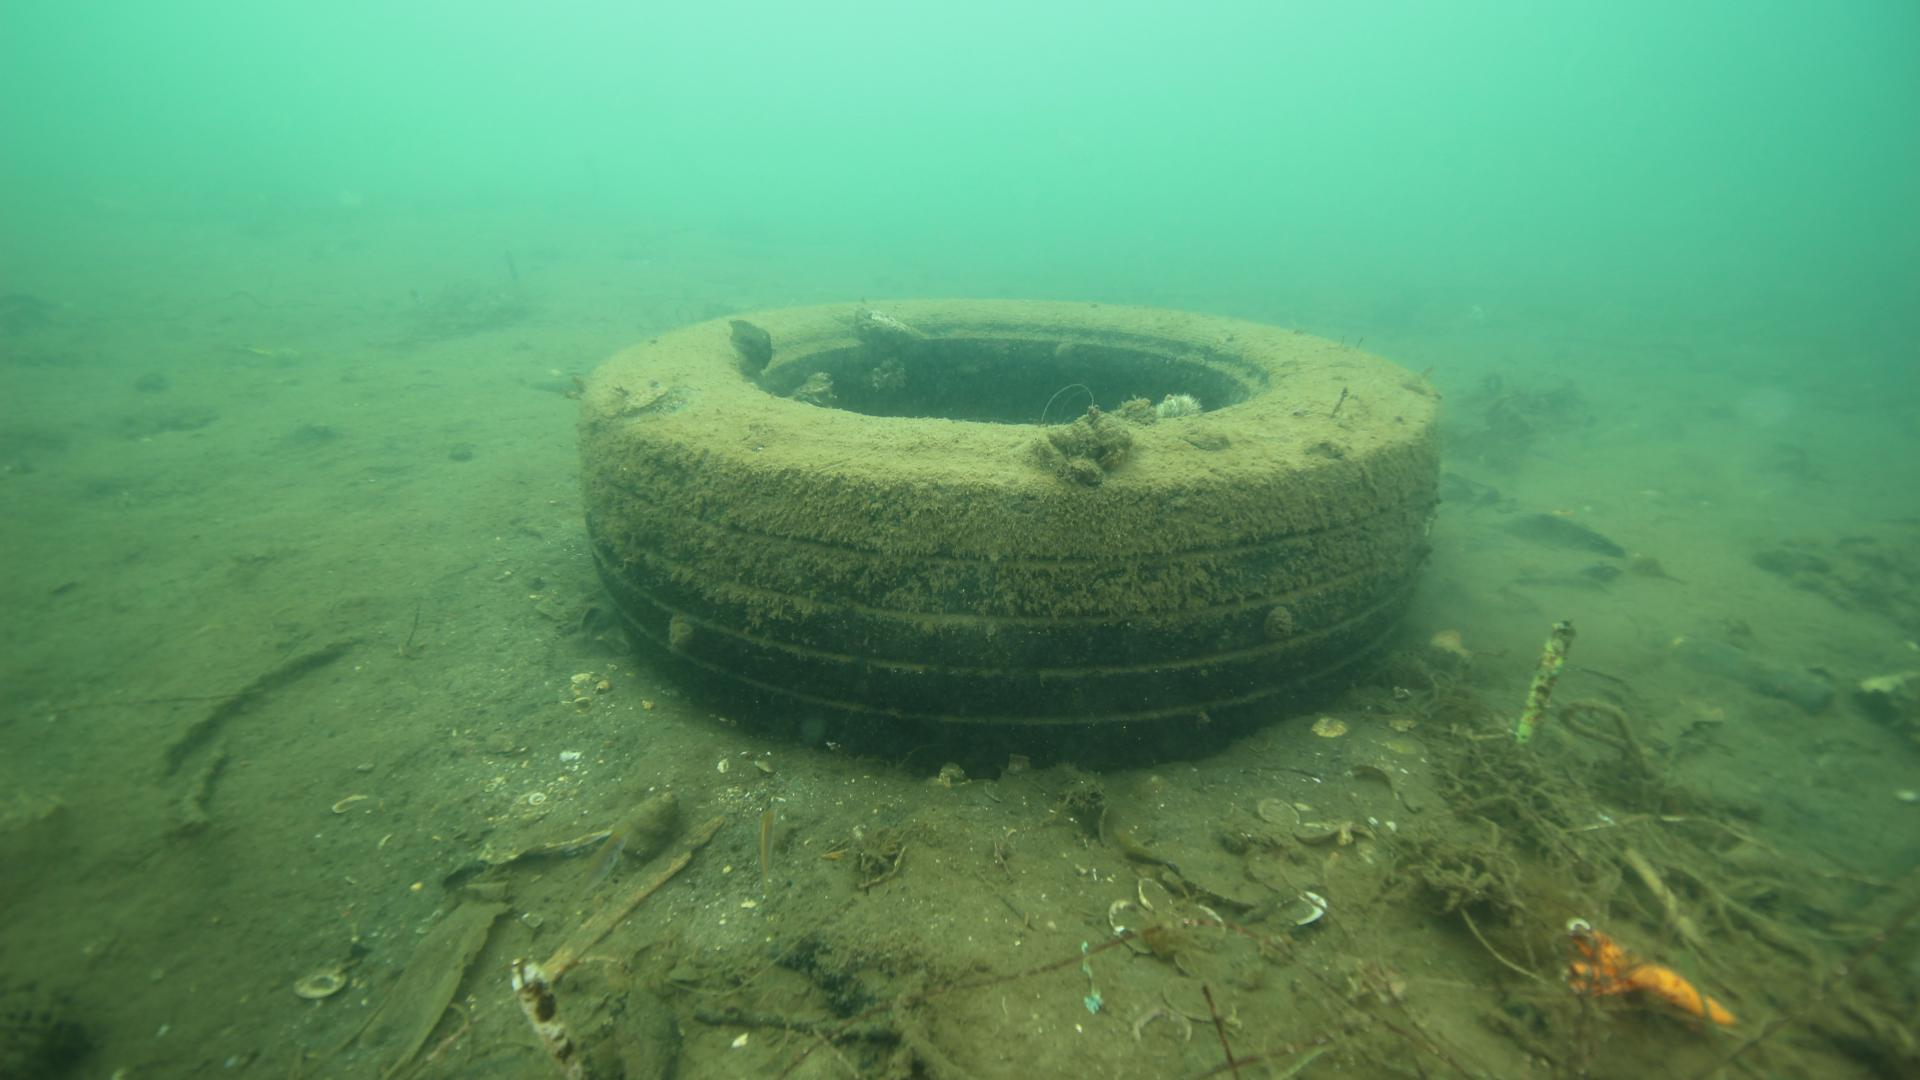tire: (571, 291, 1443, 770)
